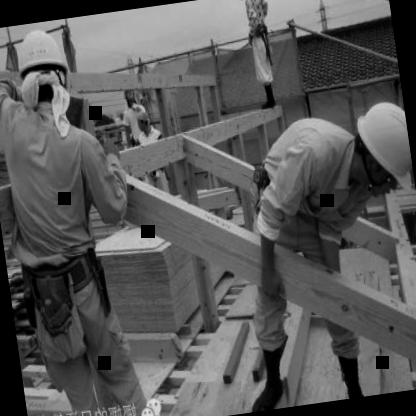helmet: (337, 90, 416, 200), (6, 19, 76, 116), (133, 105, 156, 138), (231, 0, 253, 3)
